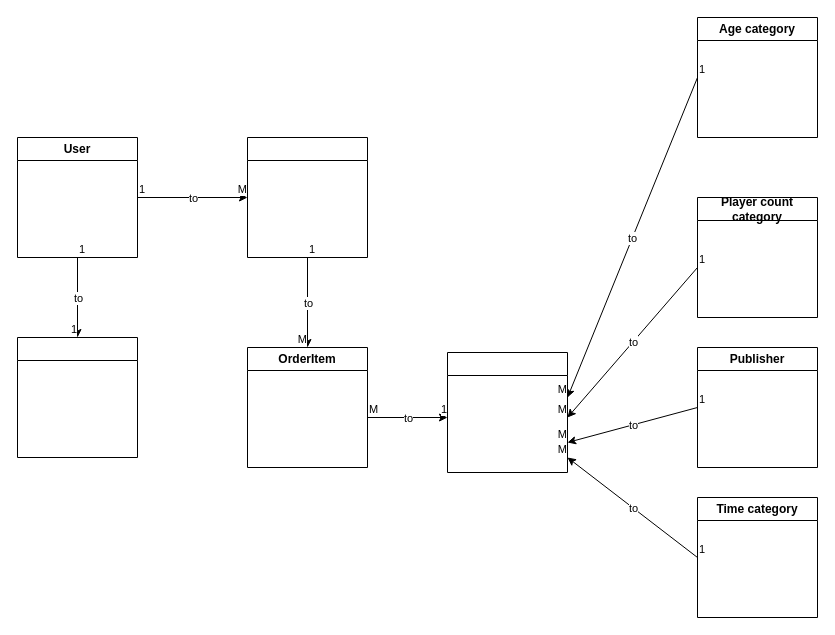
The diagram is 835 pixels wide and 635 high, and some of its shapes have lost their labels. Each missing label, with the box of its shape:
Game: (446, 352, 568, 472)
Order: (246, 136, 368, 258)
Profile: (16, 336, 138, 458)
